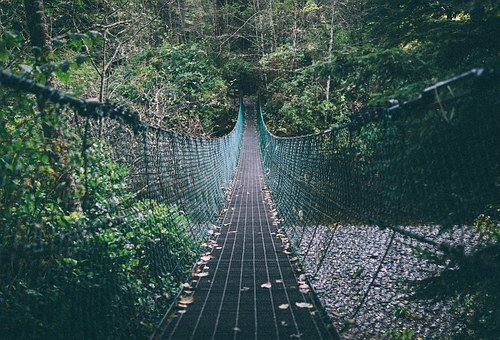forest: (8, 7, 435, 306)
